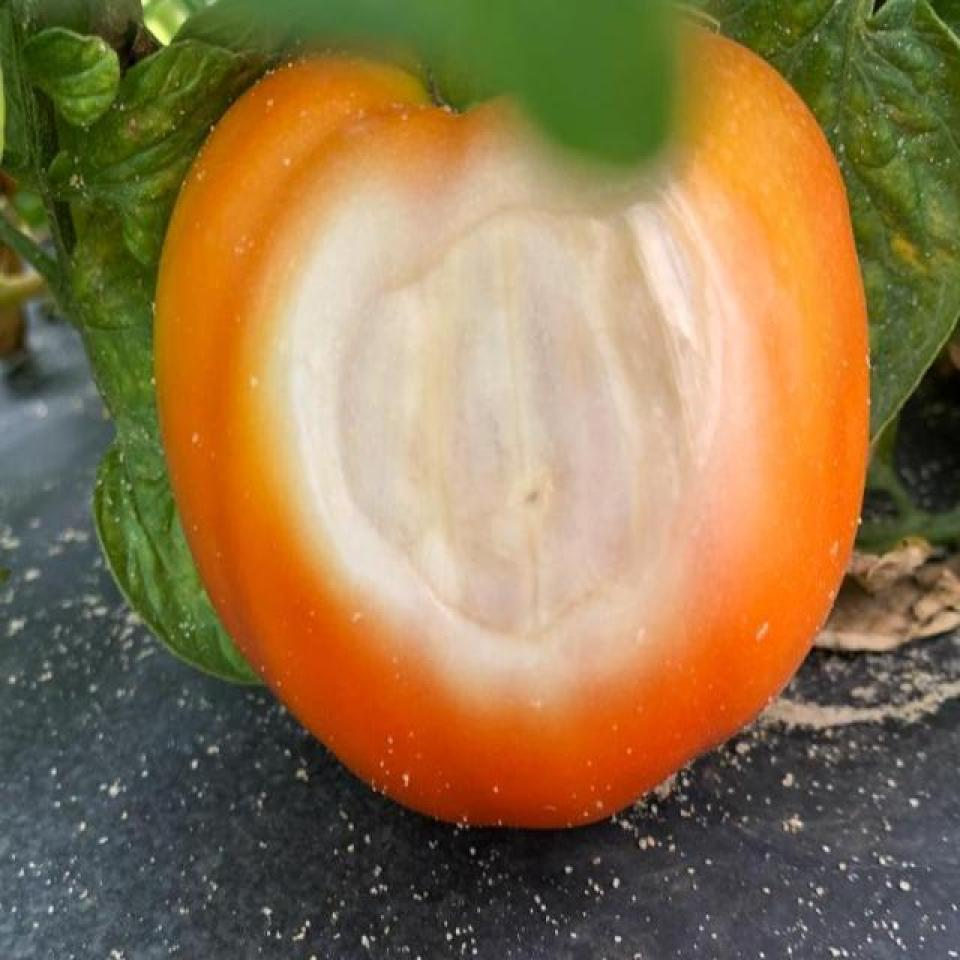Sunscald: (281, 144, 771, 680)
